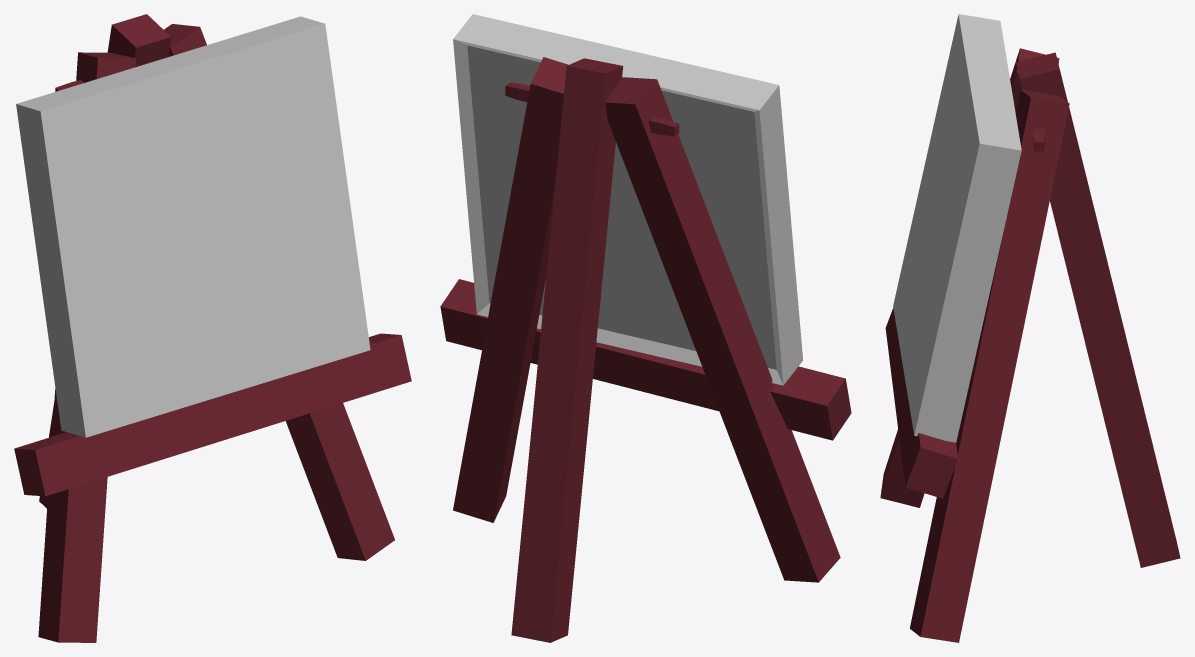
The model's file is drowing_wood.glb.
3 renders of one model, left to right at view 1: azimuth 30°, elevation 25°; view 2: azimuth 150°, elevation 25°; view 3: azimuth 270°, elevation 25°, orthographic. The views are drawn at different scales.
Visible parts, largest first — view 1: Cube, Cube.003, Cube.001, Cube.002; view 2: Cube, Cube.003, Cube.002, Cube.001, Cube.004; view 3: Cube, Cube.003, Cube.002, Cube.001.
Boxes of the visible parts, x1,y1,x2,y2 form: Cube: (16,16,370,437); Cube.003: (38,24,394,642); Cube.001: (14,333,411,496); Cube.002: (39,14,171,508); Cube: (453,14,803,385); Cube.003: (453,57,840,582); Cube.002: (511,58,623,642); Cube.001: (440,279,851,440); Cube.004: (505,82,679,136); Cube: (893,14,1021,442); Cube.003: (880,48,1069,642); Cube.002: (1016,52,1180,567); Cube.001: (885,308,957,498).
Size of the model in its own units: 2.56 by 3.44 by 1.85.
